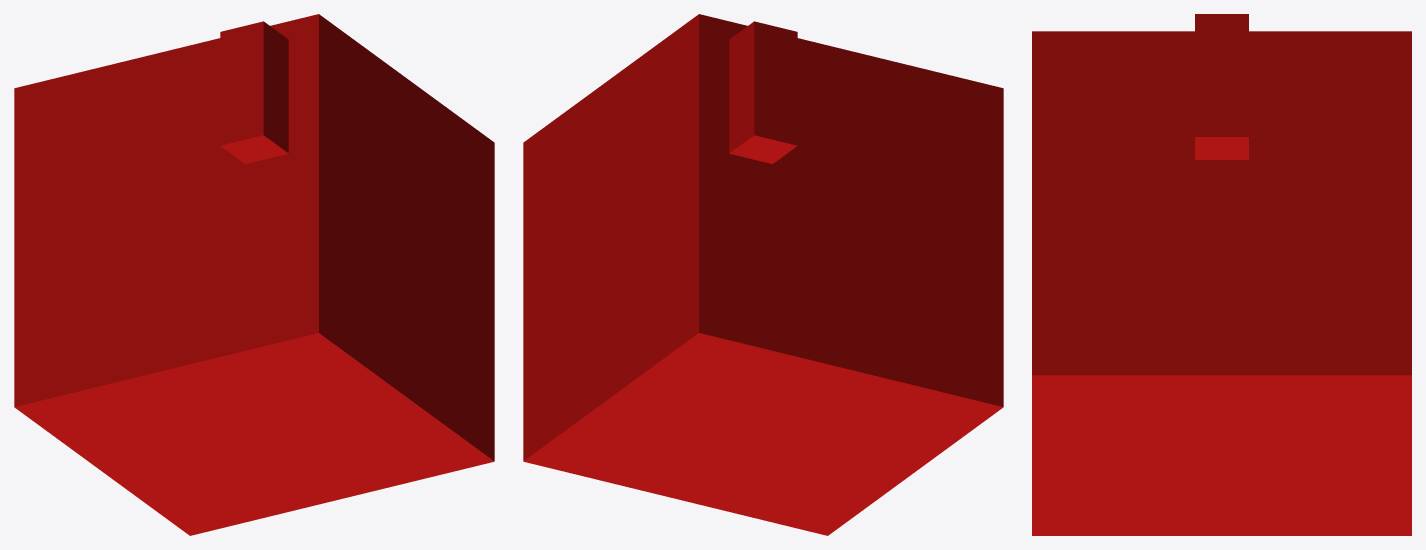
The picture shows the model from 3 angles, left to right: view 1: azimuth 30°, elevation 25°; view 2: azimuth 150°, elevation 25°; view 3: azimuth 270°, elevation 25°; orthographic projection. The views are drawn at different scales.
Parts seen in each view (by area): view 1: apple; view 2: apple; view 3: apple.
Part boxes in pixels (left/top/right/bottom): apple: left=14, top=14, right=494, bottom=535; apple: left=523, top=14, right=1003, bottom=535; apple: left=1032, top=14, right=1411, bottom=535.
Bounding box in the file's own units: 0.28 × 0.35 × 0.28.
Materials: 1 (1 with a texture image).
